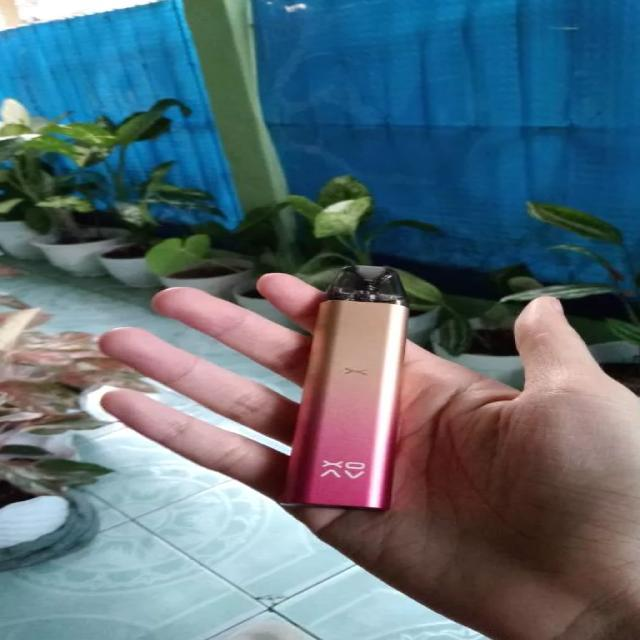Hazard: (276, 262, 414, 508)
